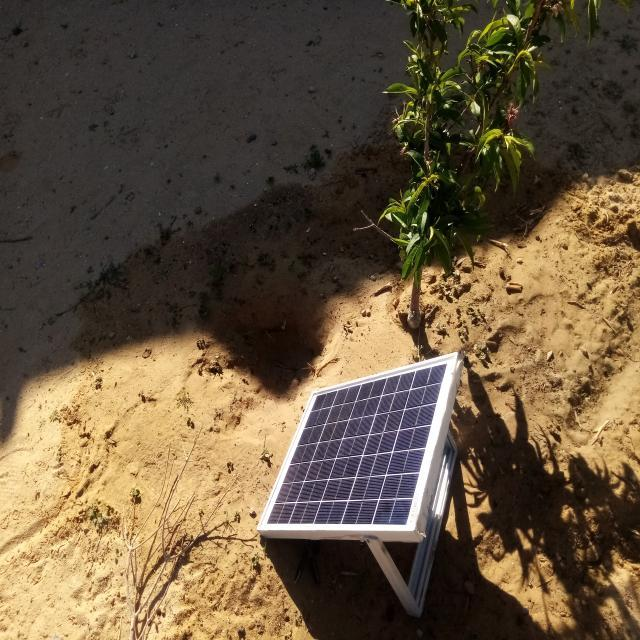no faulty: (258, 353, 460, 530)
